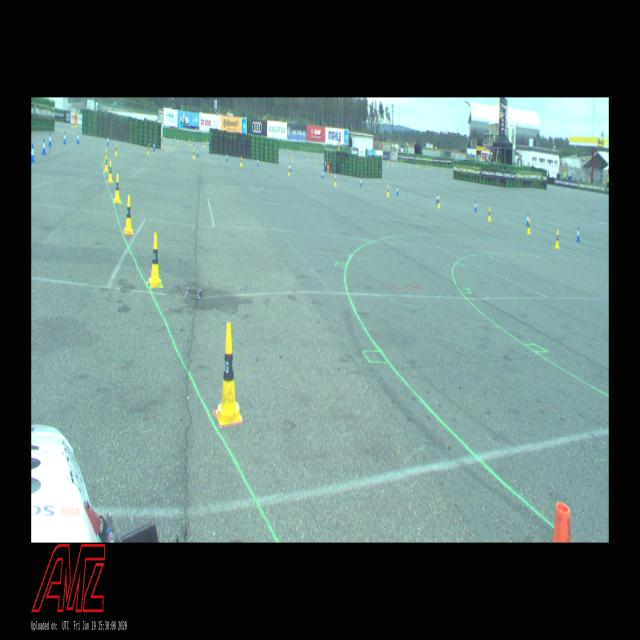blue_cone: (31, 142, 35, 162), (42, 138, 46, 154), (576, 226, 580, 242), (49, 133, 52, 146), (359, 177, 362, 187), (526, 213, 528, 225), (474, 200, 476, 212), (77, 132, 79, 144), (64, 132, 66, 144), (396, 184, 398, 196), (436, 193, 438, 204), (153, 141, 155, 151), (106, 136, 108, 146), (226, 152, 228, 162), (322, 169, 324, 179), (257, 157, 259, 166), (196, 148, 198, 156), (290, 163, 291, 171)
yellow_cone: (216, 323, 242, 425), (147, 232, 163, 288), (124, 194, 134, 234), (114, 173, 122, 203), (108, 160, 114, 183), (555, 230, 559, 248), (104, 154, 108, 172), (527, 218, 531, 234), (488, 208, 491, 222), (116, 142, 118, 156), (438, 195, 440, 208), (387, 185, 389, 197), (240, 156, 242, 167), (334, 176, 336, 187), (193, 149, 195, 159), (148, 144, 150, 154), (288, 166, 290, 176), (105, 148, 106, 162)
